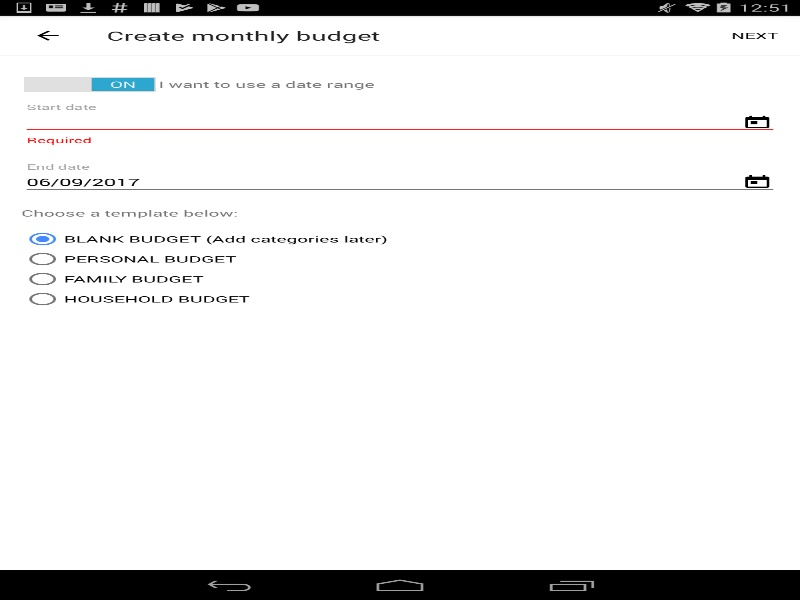Button: (10, 15, 85, 55)
Input: (21, 109, 778, 135), (21, 169, 778, 194)
